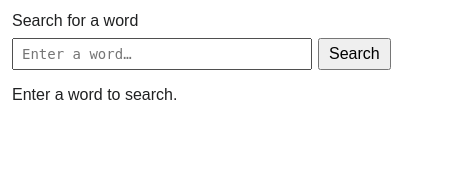
offers nasal n and replaces ng with 1 without submitting a search
Type "bung" into the dropdown. click: x=162, y=54
box: top-left (12, 38), bottom-right (312, 70)
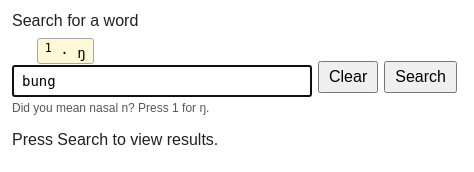
Check: the button named "1: Insert ŋ (nasal n)" is shown, box top-left (37, 38), bottom-right (94, 64)
Type keys "1"
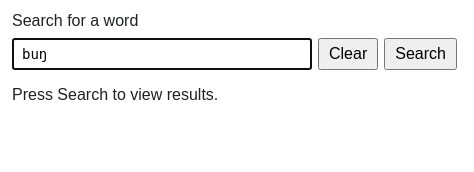
Check: the dropdown holds "buŋ", box top-left (12, 38), bottom-right (312, 70)
Type keys "1"
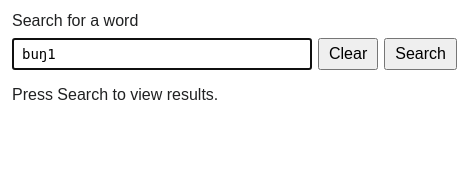
Check: the dropdown holds "buŋ1", box top-left (12, 38), bottom-right (312, 70)
